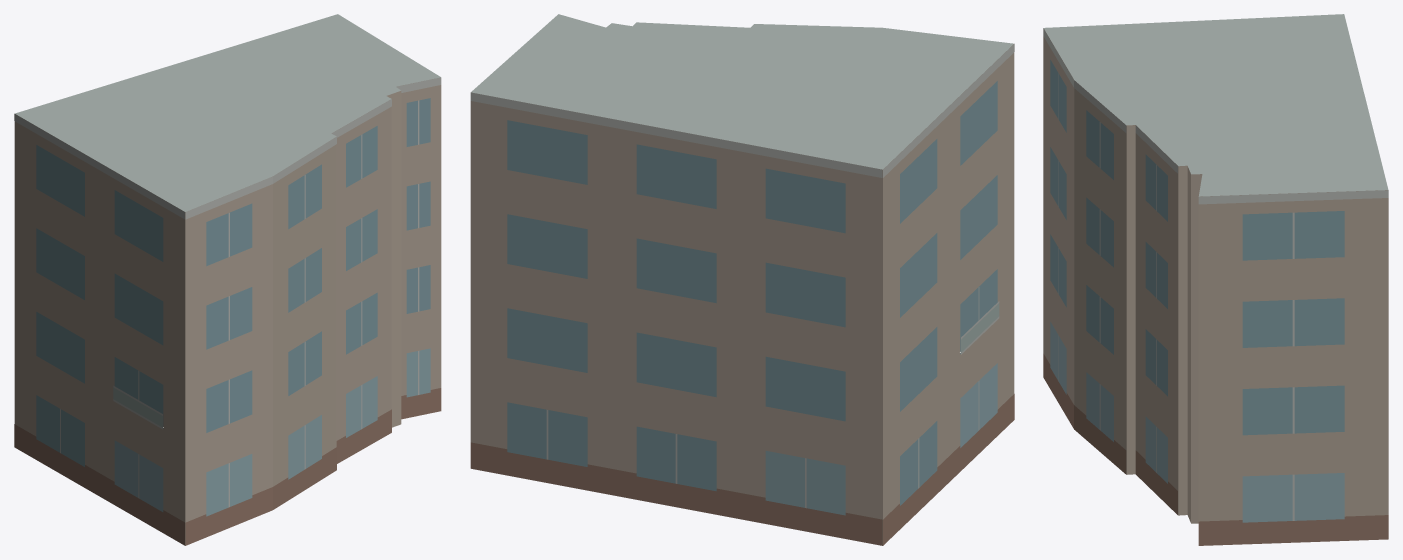
The model's file is survey-upis-32744957.glb.
The picture shows the model from 3 angles, left to right: view 1: azimuth 30°, elevation 25°; view 2: azimuth 150°, elevation 25°; view 3: azimuth 270°, elevation 25°; orthographic projection. The views are drawn at different scales.
Parts seen in each view (by area): view 1: survey-upis-32744957.tmp; view 2: survey-upis-32744957.tmp; view 3: survey-upis-32744957.tmp.
Part boxes in pixels (<box>): survey-upis-32744957.tmp: <box>14,14,441,545</box>; survey-upis-32744957.tmp: <box>470,14,1014,545</box>; survey-upis-32744957.tmp: <box>1043,14,1388,545</box>.
Size of the model in its own units: 12.05 by 10.75 by 9.64.
